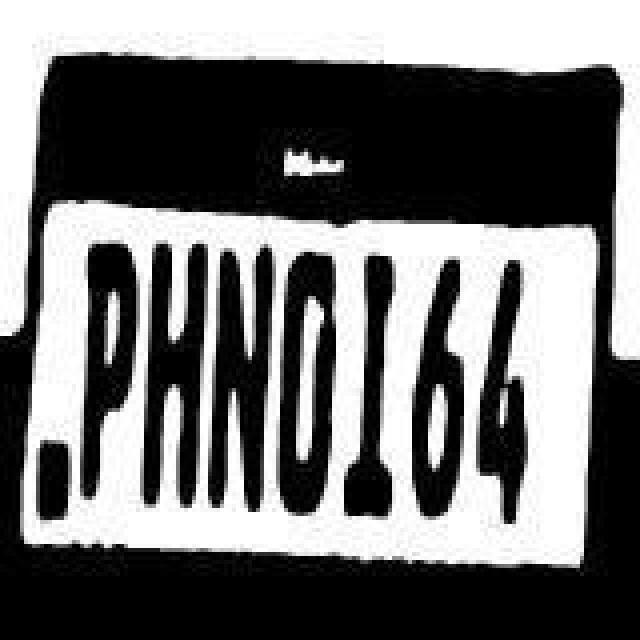4: (476, 254, 532, 530)
6: (408, 242, 464, 526)
D: (272, 244, 336, 516)
H: (138, 230, 206, 522)
I: (338, 246, 398, 522)
N: (204, 242, 276, 510)
P: (78, 226, 138, 510)
